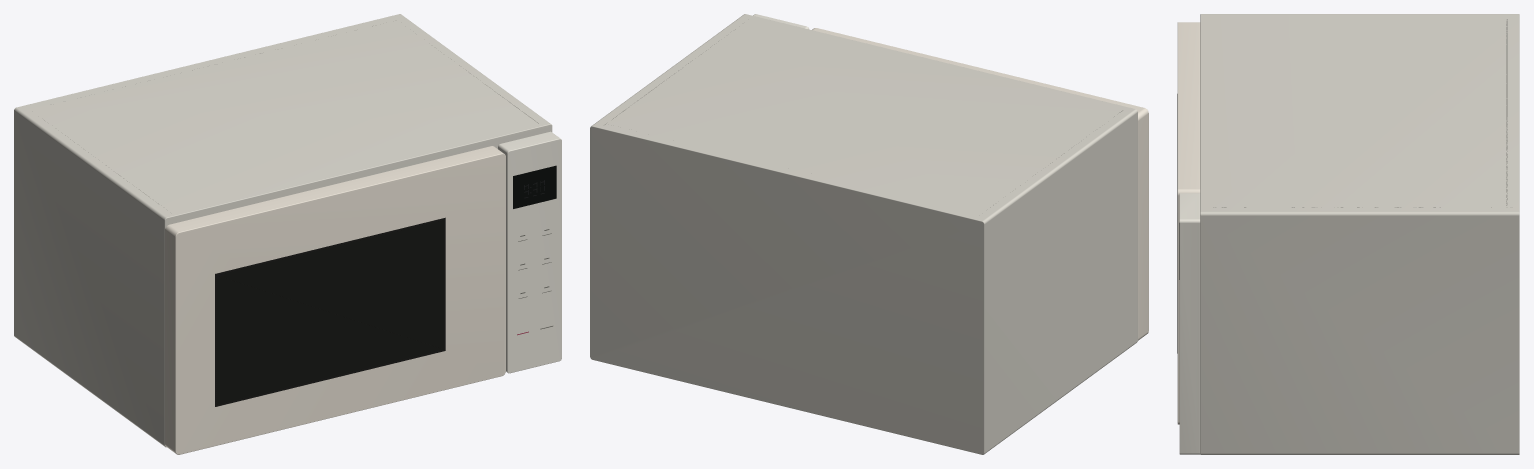
Rendered from MWJ20-batch07-c50d1c.glb.
3 views of the same model, side by side, from view 1: azimuth 30°, elevation 25°; view 2: azimuth 150°, elevation 25°; view 3: azimuth 270°, elevation 25° (orthographic). The views are drawn at different scales.
Parts seen in each view (by area): view 1: BodyShell, DoorBody, WindowMesh, ControlPanel, WindowRim, ControlDisplay; view 2: BodyShell, DoorBody; view 3: BodyShell, ControlPanel, DoorBody, SideSeam_1.
Part boxes in pixels (<box>): BodyShell: <box>14,14,552,447</box>; DoorBody: <box>165,146,505,454</box>; WindowMesh: <box>216,220,443,404</box>; ControlPanel: <box>498,131,561,373</box>; WindowRim: <box>215,217,445,406</box>; ControlDisplay: <box>513,165,556,208</box>; BodyShell: <box>590,14,1137,454</box>; DoorBody: <box>812,28,1148,340</box>; BodyShell: <box>1200,14,1519,454</box>; ControlPanel: <box>1179,193,1200,454</box>; DoorBody: <box>1177,22,1200,424</box>; SideSeam_1: <box>1213,19,1507,207</box>.
Bounding box in the file's own units: 0.454 × 0.261 × 0.328.
11 materials, 1 textured.
